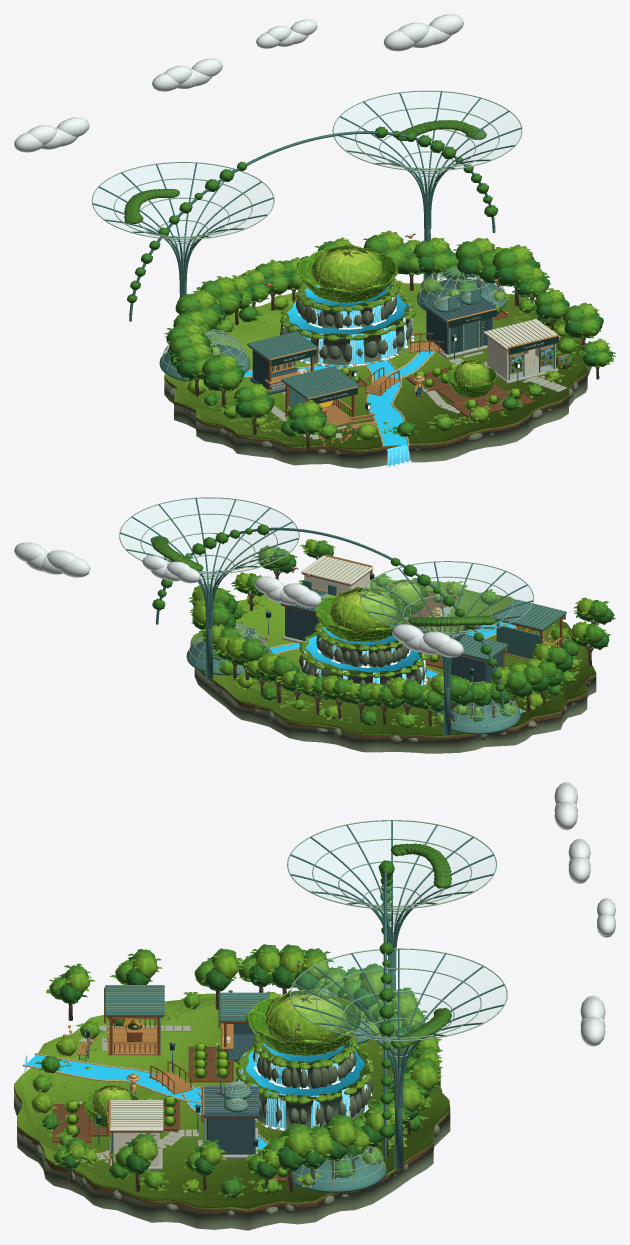
File: cabbageland.glb
3 views of the same model, one above another, from view 1: azimuth 30°, elevation 25°; view 2: azimuth 150°, elevation 25°; view 3: azimuth 270°, elevation 25° (orthographic). The views are drawn at different scales.
Visible parts, largest first — view 1: WORLD__Canopy foliage, WORLD__Glass, WORLD__Grass, WORLD__Patinated greenhouse steel, WORLD__Weathered limestone, WORLD__Pale steel, WORLD__Cloud, WORLD__Living cabbage leaf, WORLD__River water, WORLD__Rich soil, WORLD__Blue slate, WORLD__Honey cedar (+11 smaller); view 2: WORLD__Canopy foliage, WORLD__Glass, WORLD__Grass, WORLD__Patinated greenhouse steel, WORLD__Weathered limestone, WORLD__Cloud, WORLD__Pale steel, WORLD__Living cabbage leaf, WORLD__Blue slate, WORLD__Warm plaster, WORLD__Rich soil, WORLD__River water (+6 smaller); view 3: WORLD__Canopy foliage, WORLD__Glass, WORLD__Grass, WORLD__Patinated greenhouse steel, WORLD__Weathered limestone, WORLD__Pale steel, WORLD__Living cabbage leaf, WORLD__Rich soil, WORLD__Cloud, WORLD__River water, WORLD__Blue slate, WORLD__Honey cedar (+10 smaller).
Part boxes in pixels (x1,y1,x2,y2): WORLD__Canopy foliage: (124, 120, 615, 440); WORLD__Glass: (93, 92, 553, 379); WORLD__Grass: (164, 283, 587, 451); WORLD__Patinated greenhouse steel: (92, 91, 555, 433); WORLD__Weathered limestone: (164, 294, 591, 468); WORLD__Pale steel: (91, 90, 552, 396); WORLD__Cloud: (14, 14, 463, 152); WORLD__Living cabbage leaf: (212, 244, 465, 424); WORLD__River water: (243, 284, 434, 445); WORLD__Rich soil: (164, 311, 587, 454); WORLD__Blue slate: (250, 233, 500, 394); WORLD__Honey cedar: (264, 308, 569, 428); WORLD__Canopy foliage: (150, 524, 615, 728); WORLD__Glass: (120, 499, 532, 730); WORLD__Grass: (190, 577, 596, 737); WORLD__Patinated greenhouse steel: (120, 498, 566, 735); WORLD__Weathered limestone: (191, 630, 596, 753); WORLD__Cloud: (14, 542, 463, 657); WORLD__Pale steel: (119, 497, 563, 731); WORLD__Living cabbage leaf: (315, 587, 508, 716); WORLD__Blue slate: (280, 566, 502, 682); WORLD__Warm plaster: (301, 555, 571, 639); WORLD__Rich soil: (190, 587, 596, 740); WORLD__River water: (270, 621, 522, 713); WORLD__Canopy foliage: (28, 843, 451, 1198); WORLD__Glass: (225, 821, 505, 1188); WORLD__Grass: (14, 993, 450, 1210); WORLD__Patinated greenhouse steel: (79, 820, 504, 1192); WORLD__Weathered limestone: (14, 1050, 450, 1230); WORLD__Pale steel: (105, 820, 507, 1189); WORLD__Living cabbage leaf: (85, 989, 364, 1165); WORLD__Rich soil: (14, 1048, 450, 1214); WORLD__Cloud: (554, 782, 615, 1046); WORLD__River water: (26, 1035, 364, 1149); WORLD__Blue slate: (203, 960, 299, 1154); WORLD__Honey cedar: (77, 987, 233, 1167).
Bounding box in the file's own units: 45.59 × 21.1 × 44.94.
37 materials, 1 textured.
